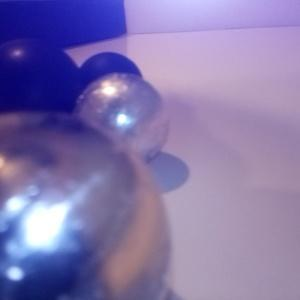alive_ball: (1, 110, 171, 300), (72, 72, 170, 166)
dead_ball: (1, 38, 81, 134), (73, 52, 144, 122)
